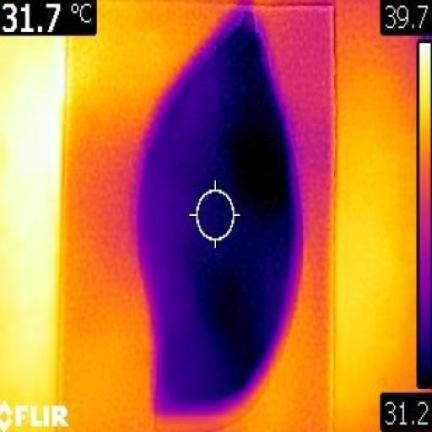mango: (137, 9, 300, 415)
